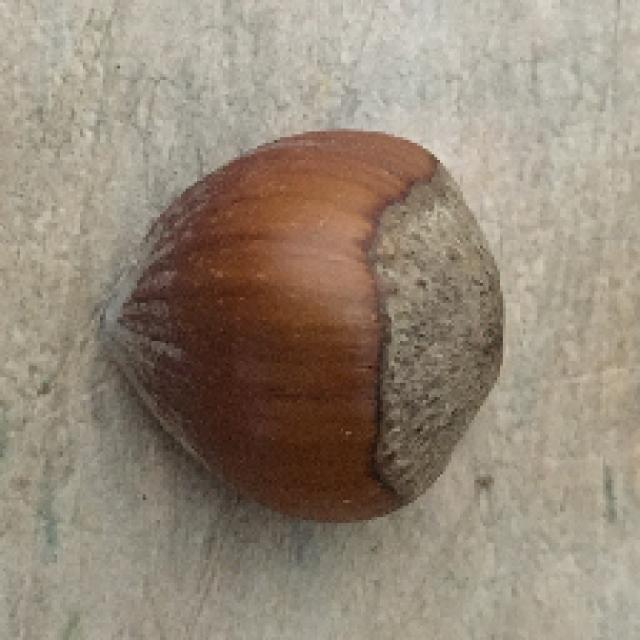qualityHazelnut: (94, 124, 493, 529)
